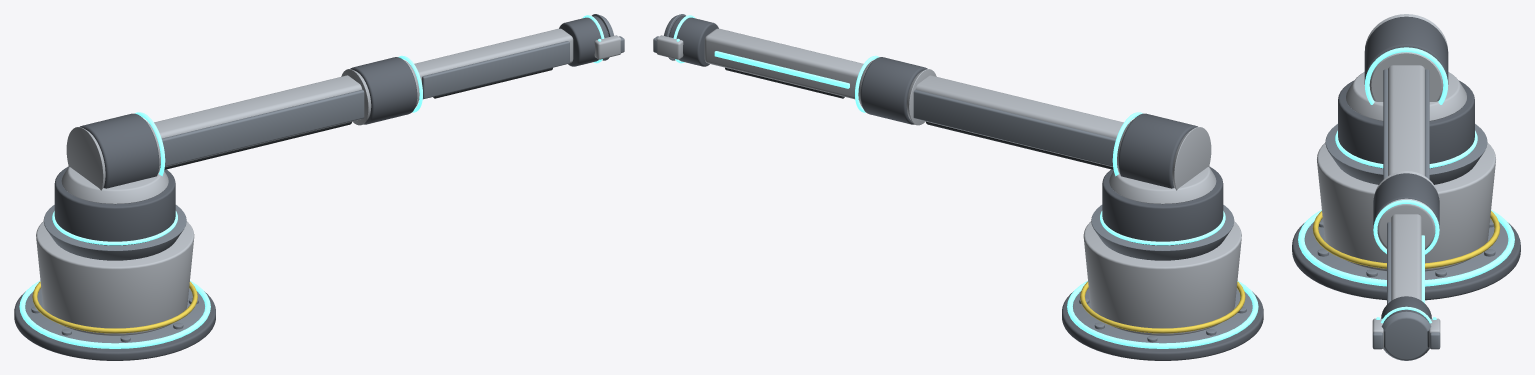
The model's file is arm_v03.glb.
The picture shows the model from 3 angles, left to right: view 1: azimuth 30°, elevation 25°; view 2: azimuth 150°, elevation 25°; view 3: azimuth 270°, elevation 25°; orthographic projection. The views are drawn at different scales.
Parts seen in each view (by area): view 1: base_column, upper_arm_rib_a, turret, upper_arm, shoulder_housing, fore_arm_rib, base_plate, elbow_housing, base_column_dark, fore_arm, turret_cap, base_plate_top (+8 smaller); view 2: base_column, upper_arm_rib_b, fore_arm, turret, upper_arm, shoulder_housing, base_plate, elbow_housing, base_column_dark, turret_cap, base_plate_top, base_glow_ring (+8 smaller); view 3: base_column, turret, upper_arm, base_plate, shoulder_housing, fore_arm, base_column_dark, base_plate_top, wrist_flange, turret_cap, base_glow_ring, elbow_housing (+14 smaller).
Part boxes in pixels (bbox=[...]): base_column: bbox=[36, 221, 194, 335]; upper_arm_rib_a: bbox=[160, 89, 364, 167]; turret: bbox=[54, 166, 175, 245]; upper_arm: bbox=[150, 75, 362, 166]; shoulder_housing: bbox=[80, 113, 159, 188]; fore_arm_rib: bbox=[422, 41, 569, 98]; base_plate: bbox=[14, 291, 215, 360]; elbow_housing: bbox=[350, 57, 417, 124]; base_column_dark: bbox=[43, 205, 186, 260]; fore_arm: bbox=[410, 28, 573, 99]; turret_cap: bbox=[61, 167, 168, 204]; base_plate_top: bbox=[25, 288, 204, 343]; base_column: bbox=[1083, 221, 1241, 335]; upper_arm_rib_b: bbox=[913, 89, 1117, 167]; fore_arm: bbox=[704, 28, 867, 99]; turret: bbox=[1102, 166, 1223, 245]; upper_arm: bbox=[915, 75, 1127, 166]; shoulder_housing: bbox=[1118, 113, 1197, 188]; base_plate: bbox=[1062, 291, 1263, 360]; elbow_housing: bbox=[860, 57, 927, 124]; base_column_dark: bbox=[1091, 205, 1234, 260]; turret_cap: bbox=[1109, 167, 1216, 204]; base_plate_top: bbox=[1073, 288, 1252, 343]; base_glow_ring: bbox=[1067, 280, 1258, 348]; base_column: bbox=[1317, 142, 1495, 271]; turret: bbox=[1338, 80, 1474, 168]; upper_arm: bbox=[1388, 65, 1424, 175]; base_plate: bbox=[1292, 223, 1520, 300]; shoulder_housing: bbox=[1364, 16, 1448, 84]; fore_arm: bbox=[1391, 214, 1421, 300]; base_column_dark: bbox=[1325, 124, 1487, 184]; base_plate_top: bbox=[1304, 218, 1508, 279]; wrist_flange: bbox=[1381, 311, 1431, 360]; turret_cap: bbox=[1346, 72, 1466, 121]; base_glow_ring: bbox=[1298, 210, 1514, 286]; elbow_housing: bbox=[1373, 173, 1439, 228].
Size of the model in its own units: 3.73 by 1.2 by 1.12.
